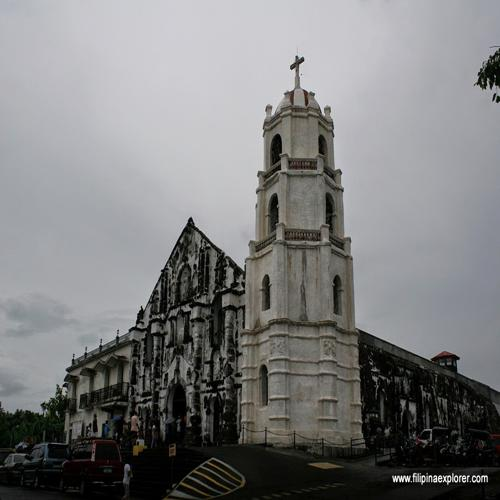Daraga Church: (57, 43, 364, 454)
